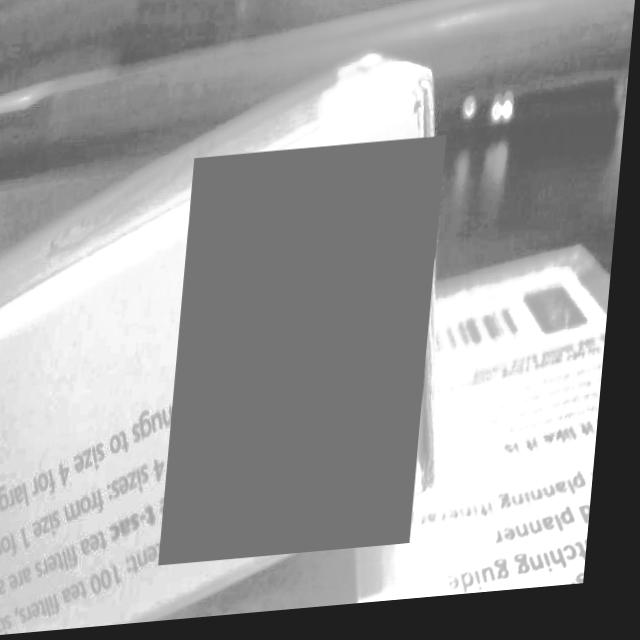qr_code: (169, 144, 450, 569)
